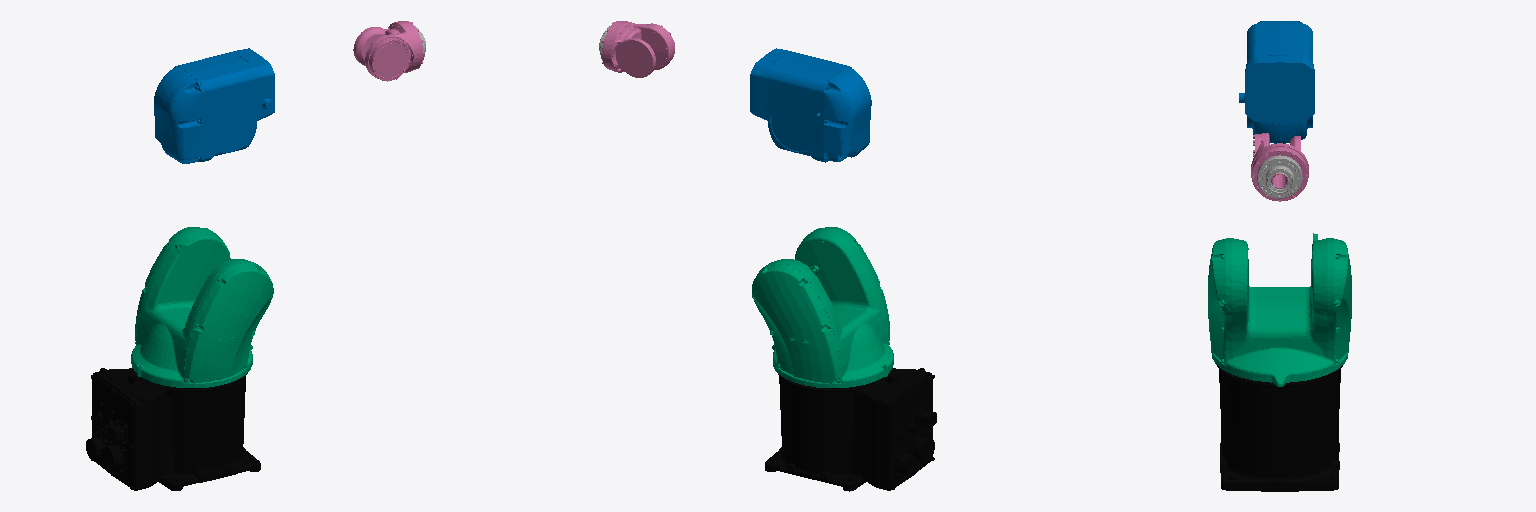
URDF robot description (mz07):
<?xml version="1.0" ?>
<!-- =================================================================================== -->
<!-- |    This document was autogenerated by xacro from [local-path]/Workspace/ROS/nachi_ws/src/nachi_project/nachi_description/robots/mz07/mz07.sensor.urdf.xacro | -->
<!-- |    EDITING THIS FILE BY HAND IS NOT RECOMMENDED                                 | -->
<!-- =================================================================================== -->
<robot name="mz07" xmlns:xacro="http://ros.org/wiki/xacro">
  <!-- File Include -->
  <!-- Include -->
  <material name="black">
    <color rgba="0.0 0.0 0.0 1.0"/>
  </material>
  <material name="blue">
    <color rgba="0.0 0.0 0.8 1.0"/>
  </material>
  <material name="green">
    <color rgba="0.0 0.8 0.0 1.0"/>
  </material>
  <material name="grey">
    <color rgba="0.2 0.2 0.2 1.0"/>
  </material>
  <material name="orange">
    <color rgba="1.0 0.423529411765 0.0392156862745 1.0"/>
  </material>
  <material name="brown">
    <color rgba="0.870588235294 0.811764705882 0.764705882353 1.0"/>
  </material>
  <material name="red">
    <color rgba="0.8 0.0 0.0 1.0"/>
  </material>
  <material name="white">
    <color rgba="1.0 1.0 1.0 1.0"/>
  </material>
  <!-- Radius Limits -->
  <!-- Velocity Limits -->
  <!-- Link -->
  <link name="world"/>
  <link name="base_link">
    <visual>
      <geometry>
        <mesh filename="package://nachi_description/meshes/mz07/visual/base_link.dae"/>
      </geometry>
    </visual>
    <collision>
      <geometry>
        <mesh filename="package://nachi_description/meshes/mz07/collision/base_link.stl"/>
      </geometry>
    </collision>
    <inertial>
      <mass value="9.522365"/>
      <inertia ixx="0.144495" ixy="-9e-06" ixz="-0.03076" iyy="0.183352" iyz="-3.7e-05" izz="0.079873"/>
    </inertial>
  </link>
  <link name="link_1">
    <visual>
      <geometry>
        <mesh filename="package://nachi_description/meshes/mz07/visual/link_1.dae"/>
      </geometry>
    </visual>
    <collision>
      <geometry>
        <mesh filename="package://nachi_description/meshes/mz07/collision/link_1.stl"/>
      </geometry>
    </collision>
    <inertial>
      <mass value="5.61696"/>
      <inertia ixx="0.087433" ixy="0.0" ixz="0.013287" iyy="0.073064" iyz="1.9e-05" izz="0.039829"/>
    </inertial>
  </link>
  <link name="link_2">
    <visual>
      <geometry>
        <mesh filename="package://nachi_description/meshes/mz07/visual/link_2.dae"/>
      </geometry>
    </visual>
    <collision>
      <geometry>
        <mesh filename="package://nachi_description/meshes/mz07/collision/link_2.stl"/>
      </geometry>
    </collision>
    <inertial>
      <mass value="7.350069"/>
      <inertia ixx="0.299465" ixy="-1e-05" ixz="-0.012735" iyy="0.279554" iyz="5.3e-05" izz="0.035911"/>
    </inertial>
  </link>
  <link name="link_3">
    <visual>
      <geometry>
        <mesh filename="package://nachi_description/meshes/mz07/visual/link_3.dae"/>
      </geometry>
    </visual>
    <collision>
      <geometry>
        <mesh filename="package://nachi_description/meshes/mz07/collision/link_3.stl"/>
      </geometry>
    </collision>
    <inertial>
      <mass value="3.724767"/>
      <inertia ixx="0.011733" ixy="4.3e-05" ixz="0.000461" iyy="0.019531" iyz="2.4e-05" izz="0.014154"/>
    </inertial>
  </link>
  <link name="link_4">
    <visual>
      <geometry>
        <mesh filename="package://nachi_description/meshes/mz07/visual/link_4.dae"/>
      </geometry>
    </visual>
    <collision>
      <geometry>
        <mesh filename="package://nachi_description/meshes/mz07/collision/link_4.stl"/>
      </geometry>
    </collision>
    <inertial>
      <mass value="3.245188"/>
      <inertia ixx="0.007141" ixy="0.000562" ixz="0.000255" iyy="0.054197" iyz="2.4e-05" izz="0.056111"/>
    </inertial>
  </link>
  <link name="link_5">
    <visual>
      <geometry>
        <mesh filename="package://nachi_description/meshes/mz07/visual/link_5.dae"/>
      </geometry>
    </visual>
    <collision>
      <geometry>
        <mesh filename="package://nachi_description/meshes/mz07/collision/link_5.stl"/>
      </geometry>
    </collision>
    <inertial>
      <mass value="0.501938"/>
      <inertia ixx="0.000539" ixy="1e-06" ixz="0.0" iyy="0.000892" iyz="-1e-06" izz="0.000962"/>
    </inertial>
  </link>
  <link name="link_6">
    <visual>
      <geometry>
        <mesh filename="package://nachi_description/meshes/mz07/visual/link_6.dae"/>
      </geometry>
    </visual>
    <collision>
      <geometry>
        <mesh filename="package://nachi_description/meshes/mz07/collision/link_6.stl"/>
      </geometry>
    </collision>
    <inertial>
      <mass value="0.038575"/>
      <inertia ixx="0.0005" ixy="0.0" ixz="0.0" iyy="0.0005" iyz="0.0" izz="0.0005"/>
    </inertial>
  </link>
  <!--
  <xacro:link_v1 name="link_6" mass="0.038575"
				 ixx="0.000027" ixy="0.000000" ixz="0.000000"
				 iyy="0.000016" iyz="0.000000"
				 izz="0.000017"/> -->
  <link name="tool0"/>
  <!-- Joint -->
  <joint name="world" type="fixed">
    <parent link="world"/>
    <child link="base_link"/>
  </joint>
  <joint name="J1" type="revolute">
    <origin rpy="0 0 0" xyz="0 0 0.197"/>
    <parent link="base_link"/>
    <child link="link_1"/>
    <axis xyz="0 0 1"/>
    <dynamics damping="0.7" friction="0.7"/>
    <limit effort="30.0" lower="-2.96705981" upper="2.96705981" velocity="7.85398185"/>
  </joint>
  <joint name="J2" type="revolute">
    <origin rpy="0 0 0" xyz="0.05 0 0.148"/>
    <parent link="link_1"/>
    <child link="link_2"/>
    <axis xyz="0 1 0"/>
    <dynamics damping="0.7" friction="0.7"/>
    <limit effort="30.0" lower="-1.39626344" upper="2.356194555" velocity="6.63225134"/>
  </joint>
  <joint name="J3" type="revolute">
    <origin rpy="0 0 0" xyz="0 0 0.33"/>
    <parent link="link_2"/>
    <child link="link_3"/>
    <axis xyz="0 1 0"/>
    <dynamics damping="0.7" friction="0.7"/>
    <limit effort="30.0" lower="-3.14159274" upper="0.802851478" velocity="9.07571236"/>
  </joint>
  <joint name="J4" type="revolute">
    <origin rpy="0 0 0" xyz="0.09 0 0.045"/>
    <parent link="link_3"/>
    <child link="link_4"/>
    <axis xyz="1 0 0"/>
    <dynamics damping="0.7" friction="0.7"/>
    <limit effort="30.0" lower="-3.31612567" upper="3.31612567" velocity="9.59931115"/>
  </joint>
  <joint name="J5" type="revolute">
    <origin rpy="0 0 0" xyz="0.25 0 0"/>
    <parent link="link_4"/>
    <child link="link_5"/>
    <axis xyz="0 1 0"/>
    <dynamics damping="0.7" friction="0.7"/>
    <limit effort="30.0" lower="-2.09439516" upper="2.09439516" velocity="9.59931115"/>
  </joint>
  <joint name="J6" type="revolute">
    <origin rpy="0 0 0" xyz="0.063 0 0"/>
    <parent link="link_5"/>
    <child link="link_6"/>
    <axis xyz="1 0 0"/>
    <dynamics damping="0.7" friction="0.7"/>
    <limit effort="30.0" lower="-6.28318548" upper="6.28318548" velocity="17.453293"/>
  </joint>
  <joint name="joint_tool0" type="fixed">
    <origin rpy="0 0 0" xyz="0.0195 0 0"/>
    <parent link="link_6"/>
    <child link="tool0"/>
  </joint>
  <!-- transmission -->
  <transmission name="transmission_1">
    <type>transmission_interface/SimpleTransmission</type>
    <joint name="J1">
      <hardwareInterface>EffortJointInterface</hardwareInterface>
    </joint>
    <actuator name="motor_1">
      <hardwareInterface>EffortJointInterface</hardwareInterface>
      <mechanicalReduction>1</mechanicalReduction>
    </actuator>
  </transmission>
  <transmission name="transmission_2">
    <type>transmission_interface/SimpleTransmission</type>
    <joint name="J2">
      <hardwareInterface>EffortJointInterface</hardwareInterface>
    </joint>
    <actuator name="motor_2">
      <hardwareInterface>EffortJointInterface</hardwareInterface>
      <mechanicalReduction>1</mechanicalReduction>
    </actuator>
  </transmission>
  <transmission name="transmission_3">
    <type>transmission_interface/SimpleTransmission</type>
    <joint name="J3">
      <hardwareInterface>EffortJointInterface</hardwareInterface>
    </joint>
    <actuator name="motor_3">
      <hardwareInterface>EffortJointInterface</hardwareInterface>
      <mechanicalReduction>1</mechanicalReduction>
    </actuator>
  </transmission>
  <transmission name="transmission_4">
    <type>transmission_interface/SimpleTransmission</type>
    <joint name="J4">
      <hardwareInterface>EffortJointInterface</hardwareInterface>
    </joint>
    <actuator name="motor_4">
      <hardwareInterface>EffortJointInterface</hardwareInterface>
      <mechanicalReduction>1</mechanicalReduction>
    </actuator>
  </transmission>
  <transmission name="transmission_5">
    <type>transmission_interface/SimpleTransmission</type>
    <joint name="J5">
      <hardwareInterface>EffortJointInterface</hardwareInterface>
    </joint>
    <actuator name="motor_5">
      <hardwareInterface>EffortJointInterface</hardwareInterface>
      <mechanicalReduction>1</mechanicalReduction>
    </actuator>
  </transmission>
  <transmission name="transmission_6">
    <type>transmission_interface/SimpleTransmission</type>
    <joint name="J6">
      <hardwareInterface>EffortJointInterface</hardwareInterface>
    </joint>
    <actuator name="motor_6">
      <hardwareInterface>EffortJointInterface</hardwareInterface>
      <mechanicalReduction>1</mechanicalReduction>
    </actuator>
  </transmission>
  <!-- gazebo -->
  <gazebo>
    <plugin filename="libgazebo_ros_control.so" name="gazebo_ros_control">
      <robotNamespace>/mz07</robotNamespace>
      <robotSimType>gazebo_ros_control/DefaultRobotHWSim</robotSimType>
    </plugin>
  </gazebo>
  <gazebo reference="base_link">
    <mu1>0.2</mu1>
    <mu2>0.2</mu2>
    <selfCollide>true</selfCollide>
    <turnGravityOff>true</turnGravityOff>
  </gazebo>
  <gazebo reference="link_1">
    <mu1>0.2</mu1>
    <mu2>0.2</mu2>
    <selfCollide>true</selfCollide>
    <turnGravityOff>true</turnGravityOff>
  </gazebo>
  <gazebo reference="link_2">
    <mu1>0.2</mu1>
    <mu2>0.2</mu2>
    <selfCollide>true</selfCollide>
    <turnGravityOff>true</turnGravityOff>
  </gazebo>
  <gazebo reference="link_3">
    <mu1>0.2</mu1>
    <mu2>0.2</mu2>
    <selfCollide>true</selfCollide>
    <turnGravityOff>true</turnGravityOff>
  </gazebo>
  <gazebo reference="link_4">
    <mu1>0.2</mu1>
    <mu2>0.2</mu2>
    <selfCollide>true</selfCollide>
    <turnGravityOff>true</turnGravityOff>
  </gazebo>
  <gazebo reference="link_5">
    <mu1>0.2</mu1>
    <mu2>0.2</mu2>
    <selfCollide>true</selfCollide>
    <turnGravityOff>true</turnGravityOff>
  </gazebo>
  <gazebo reference="link_6">
    <mu1>0.2</mu1>
    <mu2>0.2</mu2>
    <selfCollide>true</selfCollide>
    <turnGravityOff>true</turnGravityOff>
  </gazebo>
  <!-- add Kinect V2 -->
  <!-- Link -->
  <link name="kinect2_link">
    <visual>
      <geometry>
        <mesh filename="package://nachi_description/meshes/sensor/visual/COLLADA/kinect2.dae"/>
      </geometry>
    </visual>
    <collision>
      <origin xyz="0 0 0.041"/>
      <geometry>
        <box size="0.065 0.25 0.082"/>
      </geometry>
    </collision>
    <inertial>
      <mass value="0.935"/>
      <inertia ixx="0.0053937" ixy="0" ixz="0" iyy="0.00085311" iyz="0" izz="0.00519899"/>
    </inertial>
  </link>
  <link name="kinect2_rgb_optical_frame"/>
  <!-- Joint -->
  <joint name="joint_kinect2" type="fixed">
    <origin rpy="0 0.17453293 3.14159274" xyz="1.05024 0 0.8195"/>
    <parent link="world"/>
    <child link="kinect2_link"/>
  </joint>
  <joint name="joint_rgb_kinect2" type="fixed">
    <origin rpy="1.57079637 3.14159274 1.57079637"/>
    <parent link="kinect2_link"/>
    <child link="kinect2_rgb_optical_frame"/>
  </joint>
  <!-- Gazebo -->
  <gazebo reference="kinect2_link">
    <sensor name="kinect2" type="depth">
      <always_on>true</always_on>
      <update_rate>30.0</update_rate>
      <camera>
        <horizontal_fov>1.4678219413</horizontal_fov>
        <!-- <vertical_fov>${53.8*M_PI/180.0}</vertical_fov> -->
        <image>
          <format>R8G8B8</format>
          <width>512</width>
          <height>424</height>
        </image>
        <clip>
          <near>0.05</near>
          <far>4.5</far>
        </clip>
      </camera>
      <plugin filename="libgazebo_ros_openni_kinect.so" name="kinect2_camera_controller">
        <cameraName>kinect2</cameraName>
        <alwaysOn>true</alwaysOn>
        <updateRate>30</updateRate>
        <imageTopicName>hd/image_color</imageTopicName>
        <depthImageTopicName>hd/image_depth</depthImageTopicName>
        <pointCloudTopicName>hd/points</pointCloudTopicName>
        <cameraInfoTopicName>hd/camera_info</cameraInfoTopicName>
        <depthImageCameraInfoTopicName>hd/camera_info</depthImageCameraInfoTopicName>
        <frameName>kinect2_rgb_optical_frame</frameName>
        <baseline>0.1</baseline>
        <distortion_k1>0.0</distortion_k1>
        <distortion_k2>0.0</distortion_k2>
        <distortion_k3>0.0</distortion_k3>
        <distortion_t1>0.0</distortion_t1>
        <distortion_t2>0.0</distortion_t2>
        <pointCloudCutoff>0.05</pointCloudCutoff>
        <pointCloudCutoffMax>4.5</pointCloudCutoffMax>
      </plugin>
    </sensor>
  </gazebo>
</robot>

--- What the picture shows (computed from the rendered views, not written in the file) ---
3 views of the same robot in one strip: view 1: azimuth 30°, elevation 25°; view 2: azimuth 150°, elevation 25°; view 3: azimuth 270°, elevation 25° (orthographic).
Robot: mz07 — 11 links, 10 joints (6 revolute, 4 fixed); root link world; default pose: every joint at zero.
Links seen in each view (by area): view 1: link_1, base_link, link_3, link_5; view 2: link_1, base_link, link_3, link_5; view 3: link_1, base_link, link_3, link_5, link_6.
Link boxes in pixels (x1,y1,x2,y2): link_1: (131, 227, 273, 387); base_link: (86, 368, 260, 490); link_3: (154, 48, 274, 163); link_5: (353, 21, 424, 81); link_1: (752, 227, 893, 387); base_link: (765, 368, 936, 491); link_3: (750, 48, 871, 162); link_5: (601, 21, 674, 77); link_1: (1208, 233, 1351, 386); base_link: (1217, 365, 1342, 491); link_3: (1239, 21, 1314, 143); link_5: (1251, 133, 1308, 201); link_6: (1257, 155, 1302, 198).
Size in the robot's own frame: 0.6589 by 0.23 by 0.774 metres.
5 mesh visuals loaded from 8 distinct referenced files (5 Collada DAE); not drawn: 3 (reference not matched to a file when rendering).
